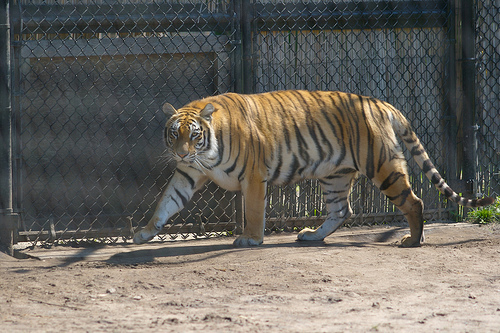Tigre: (125, 83, 478, 269)
